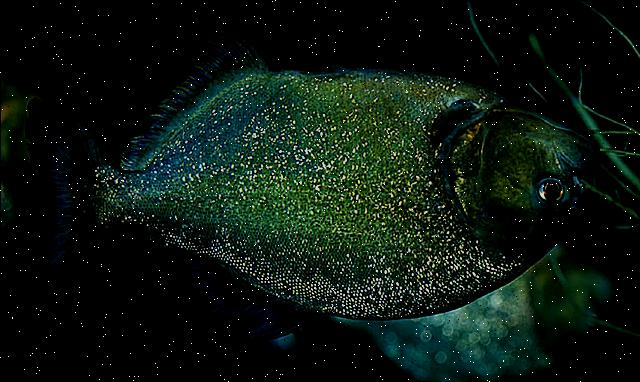Mulut: (536, 104, 620, 234)
Sirip Anal: (116, 24, 274, 180)
Sirip Ekor: (13, 84, 122, 304)
Sirip Perut: (283, 46, 371, 98)
Sirip Punggung: (123, 205, 331, 363)
